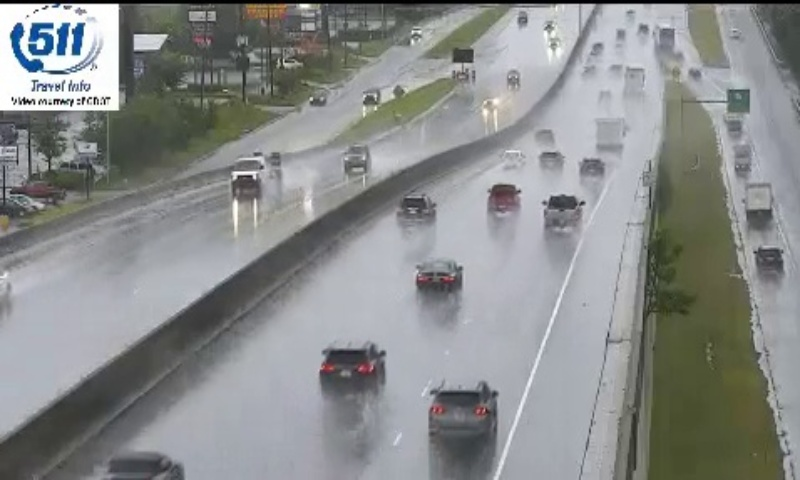car: (428, 380, 497, 443), (321, 342, 384, 396), (415, 260, 461, 293), (543, 196, 582, 226), (396, 196, 433, 224), (487, 184, 518, 211)
